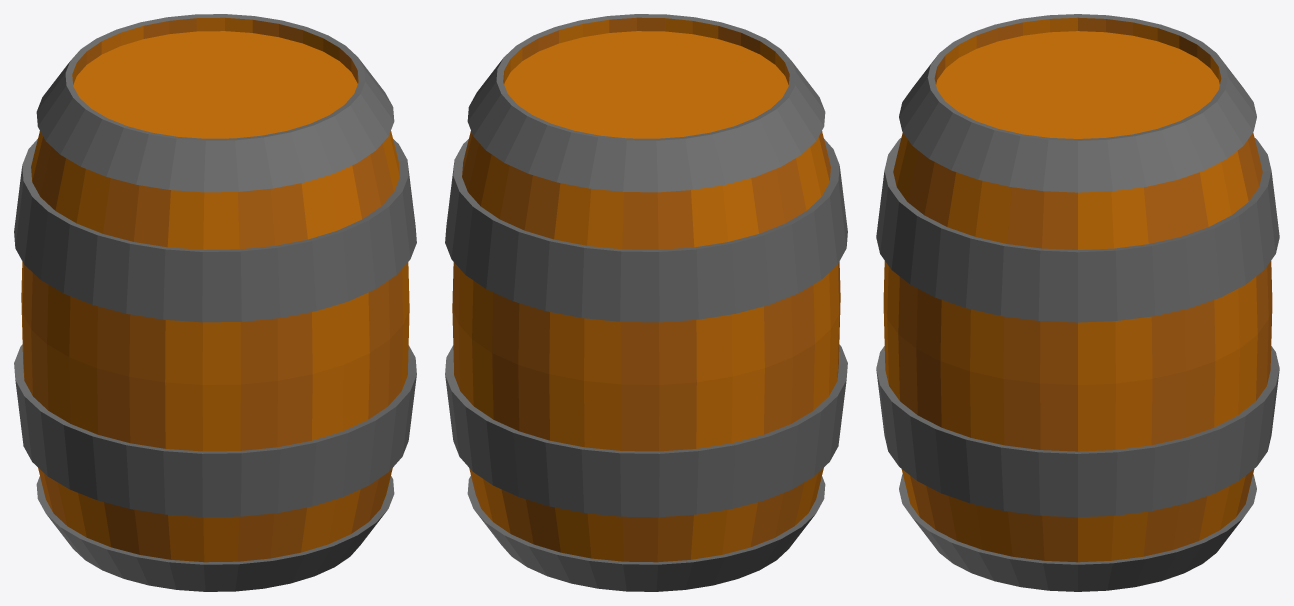
The model's file is Barril.fbx.
The picture shows the model from 3 angles, left to right: view 1: azimuth 30°, elevation 25°; view 2: azimuth 150°, elevation 25°; view 3: azimuth 270°, elevation 25°; orthographic projection.
Visible parts, largest first — view 1: Barril; view 2: Barril; view 3: Barril.
Part boxes in pixels (<box>): Barril: <box>14,14,416,591</box>; Barril: <box>445,14,847,591</box>; Barril: <box>876,14,1279,591</box>.
Bounding box in the file's own units: 196 × 242 × 196.
